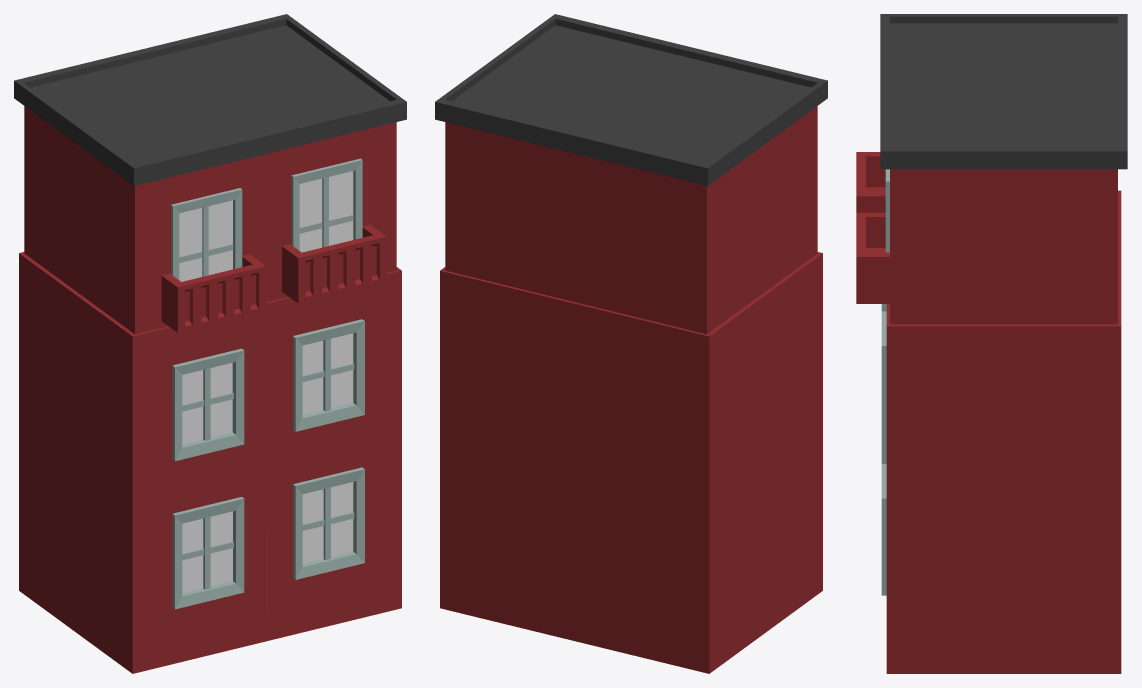
The model's file is buildingRed.fbx.
3 renders of one model, left to right at view 1: azimuth 30°, elevation 25°; view 2: azimuth 150°, elevation 25°; view 3: azimuth 270°, elevation 25°, orthographic. The views are drawn at different scales.
Visible parts, largest first — view 1: Cube; view 2: Cube; view 3: Cube.
Part boxes in pixels (<box>): Cube: <box>14,14,406,673</box>; Cube: <box>435,14,827,673</box>; Cube: <box>856,14,1127,673</box>.
Bounding box in the file's own units: 417 × 742 × 349.
